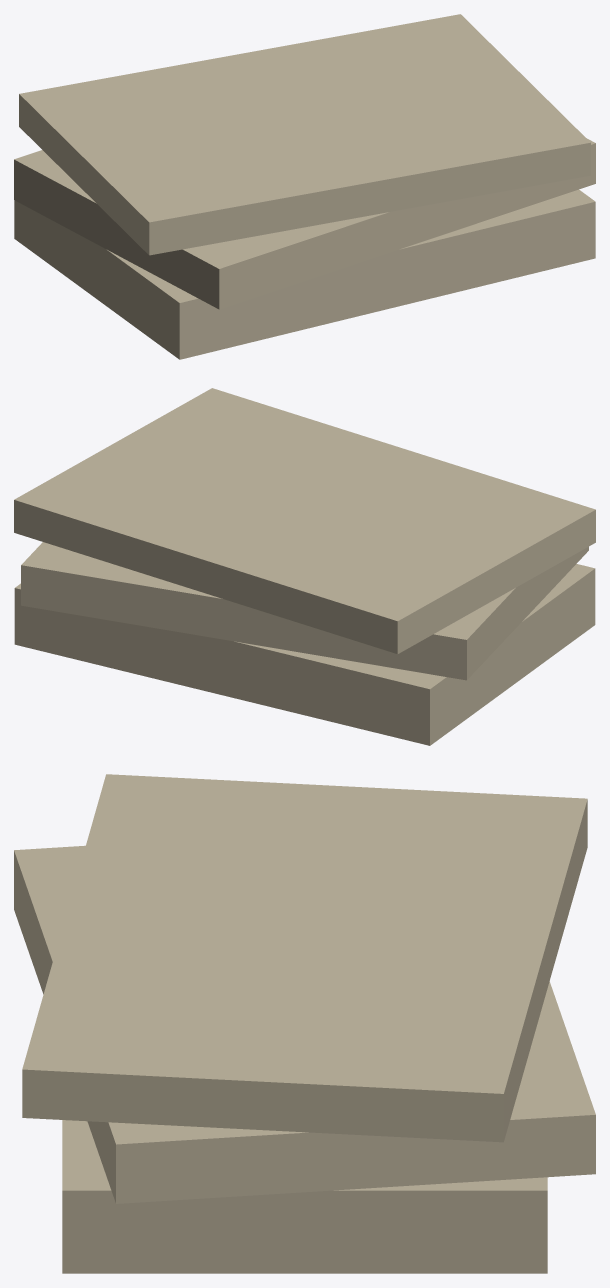
File: Garbage-Paper-PaperStack.glb
3 renders of one model, top to bottom at view 1: azimuth 30°, elevation 25°; view 2: azimuth 150°, elevation 25°; view 3: azimuth 270°, elevation 25°, orthographic. The views are drawn at different scales.
Parts seen in each view (by area): view 1: Garbage.PA.PaperStack; view 2: Garbage.PA.PaperStack; view 3: Garbage.PA.PaperStack.
Part boxes in pixels (x1,y1,x2,y2): Garbage.PA.PaperStack: [14, 14, 595, 359]; Garbage.PA.PaperStack: [14, 388, 595, 745]; Garbage.PA.PaperStack: [14, 774, 595, 1273].
Size of the model in its own units: 0.6049 by 0.1662 by 0.4591.
